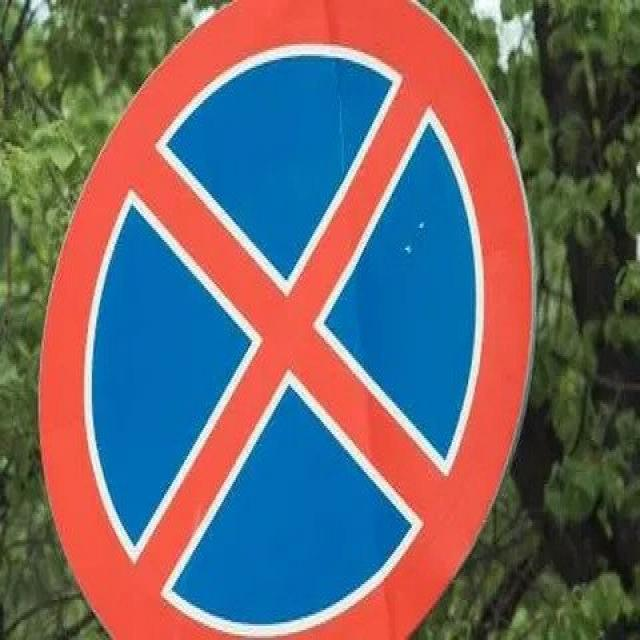no stopping: (32, 0, 540, 638)
